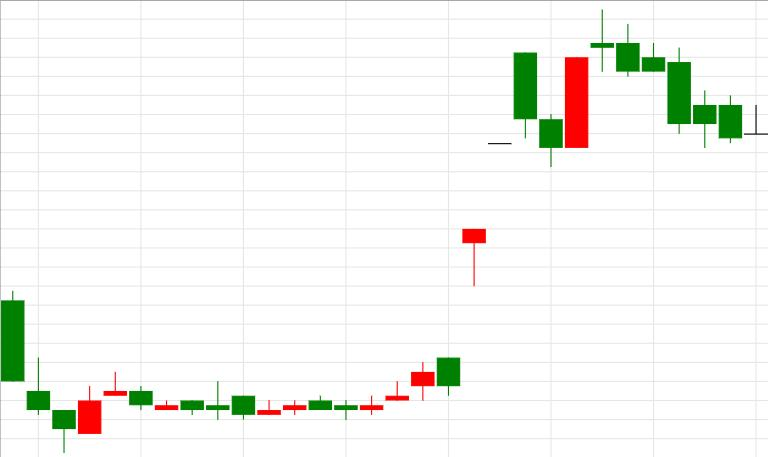evening_star_fall: (411, 10, 639, 401)
